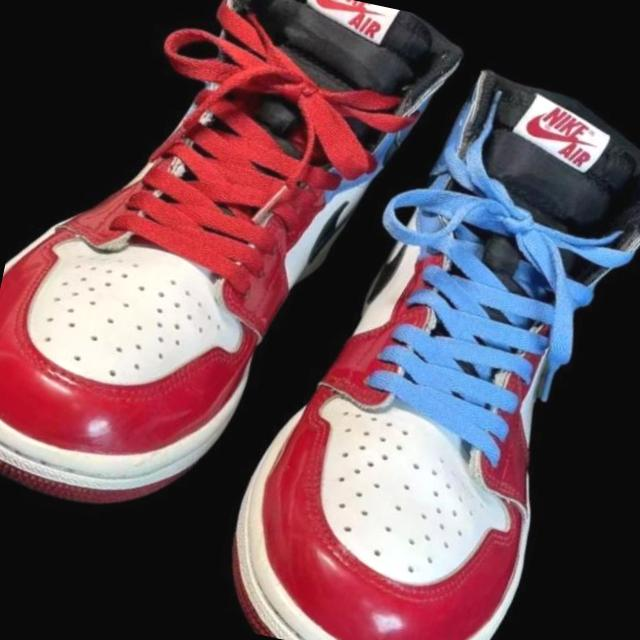nike_original_jordan: (165, 6, 640, 640), (0, 0, 481, 608)
